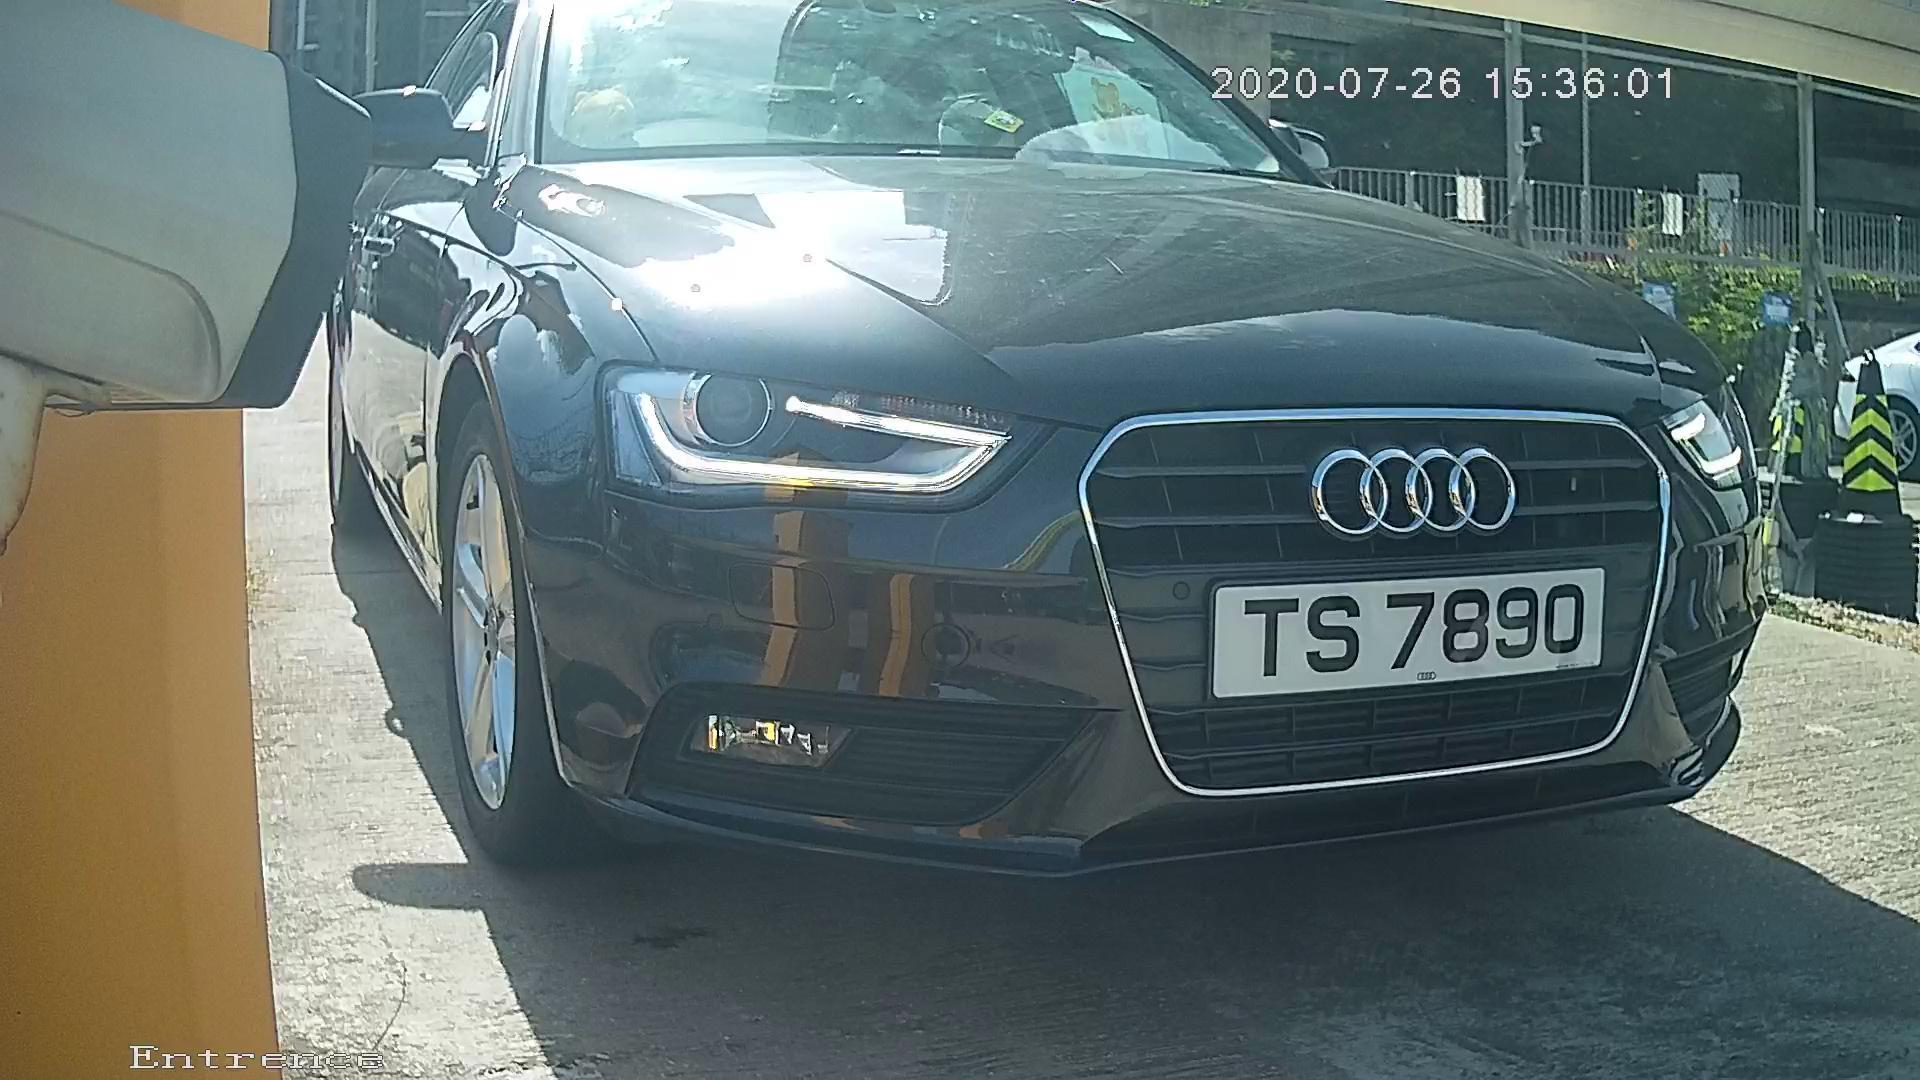privatecar: (266, 20, 1809, 971)
